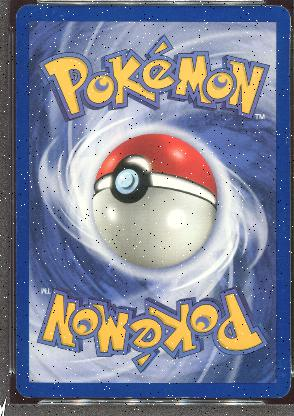Card: (13, 1, 291, 400)
Corner Wear: (13, 4, 38, 18), (273, 378, 290, 398), (15, 386, 32, 398)
Edge Wear: (15, 300, 17, 356), (15, 212, 17, 244), (287, 21, 289, 37)
Scratch: (104, 395, 200, 397), (276, 357, 285, 371), (255, 288, 266, 296), (283, 136, 288, 146), (58, 14, 67, 18)
